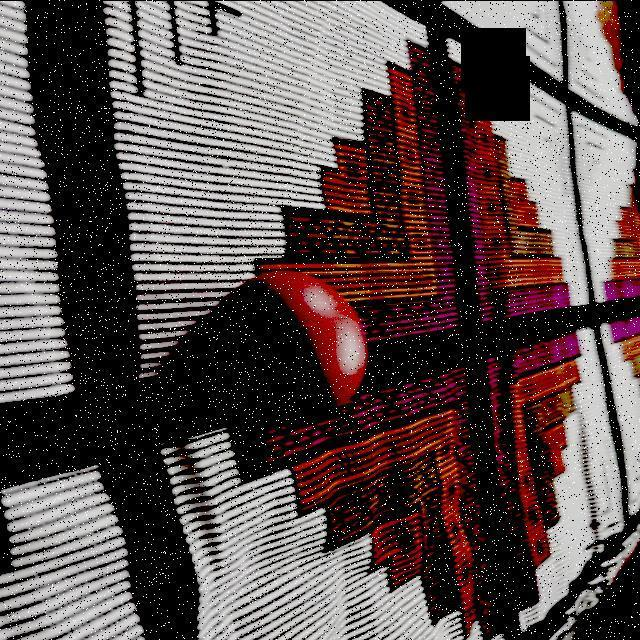egg: (196, 266, 372, 430)
